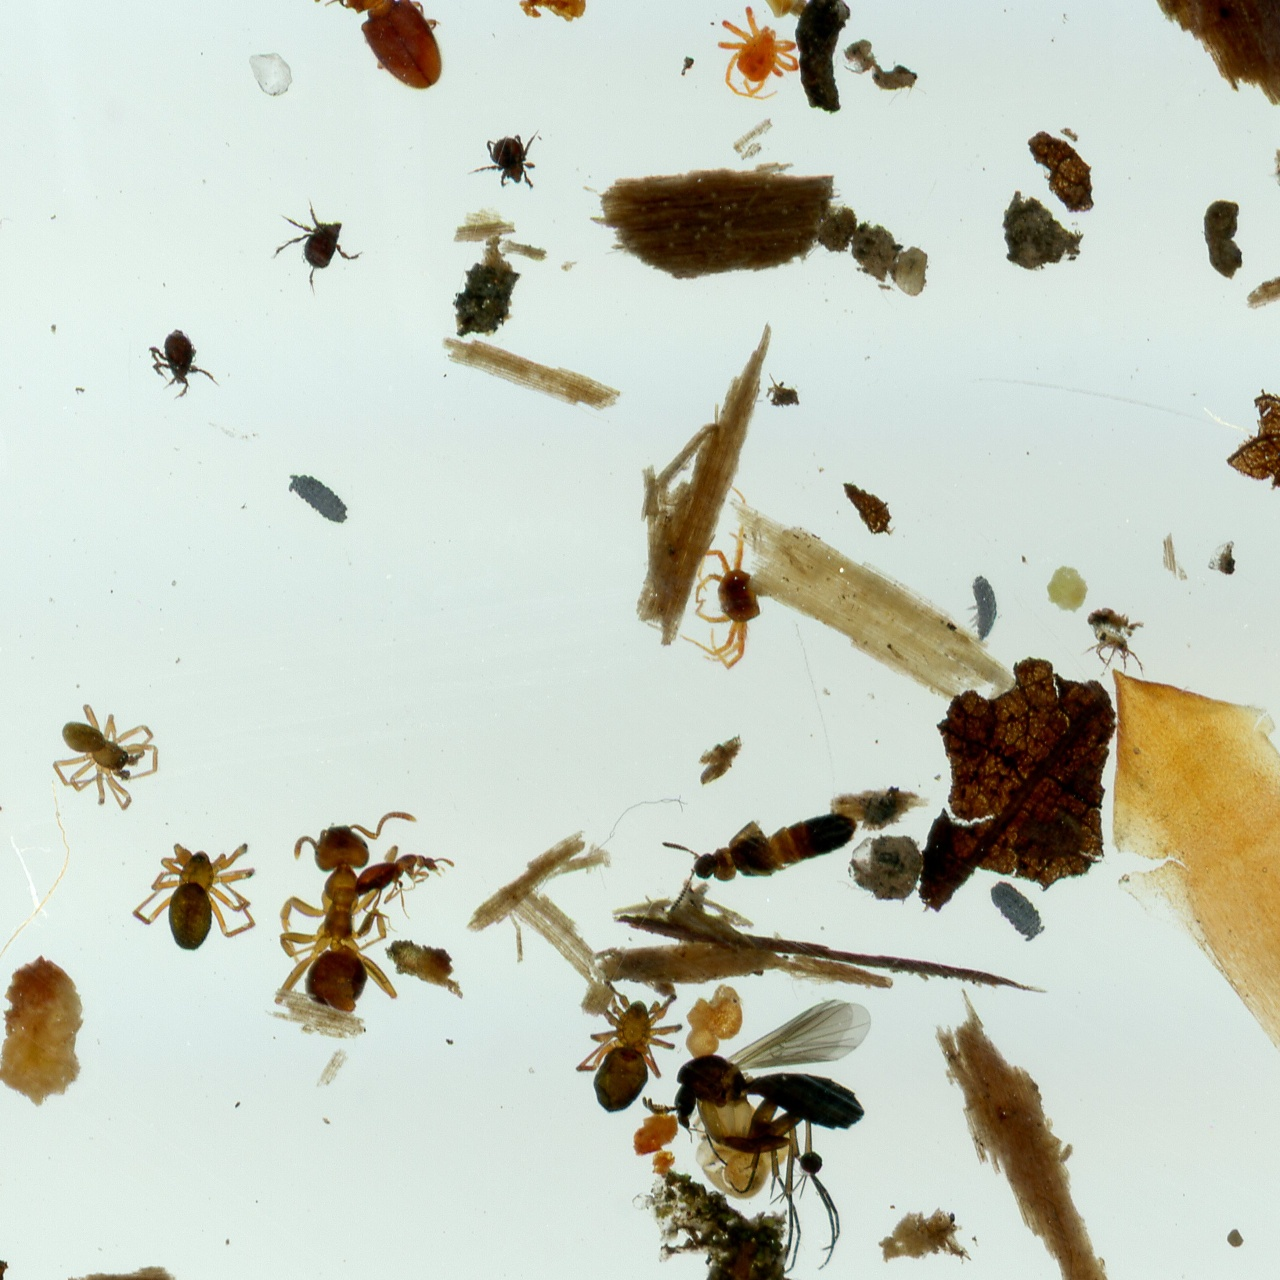arthropod: (638, 993, 879, 1274), (270, 806, 422, 1024), (648, 785, 867, 917), (646, 488, 765, 673), (561, 966, 694, 1129), (297, 0, 471, 120), (689, 0, 821, 122), (130, 835, 258, 956), (48, 702, 165, 813), (347, 840, 467, 934), (268, 193, 363, 295), (275, 459, 362, 533), (145, 325, 223, 402), (981, 871, 1053, 949), (461, 125, 542, 192), (0, 716, 29, 887), (1077, 608, 1148, 679), (965, 571, 1000, 642)
